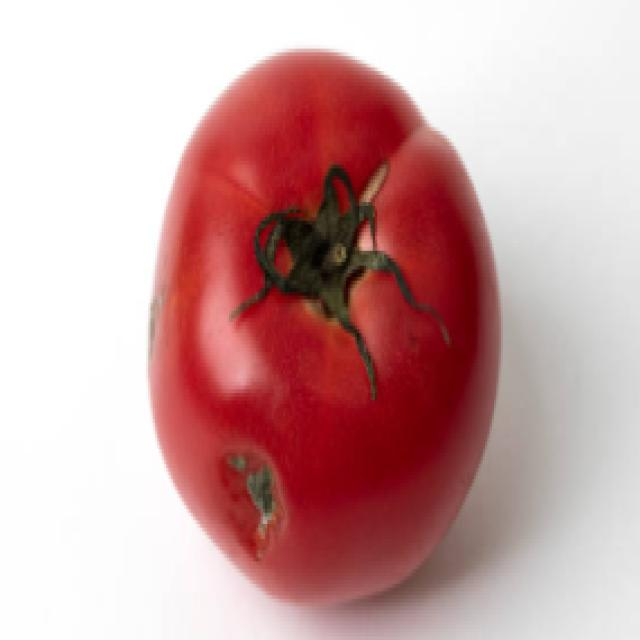Tomato: (151, 36, 510, 605)
